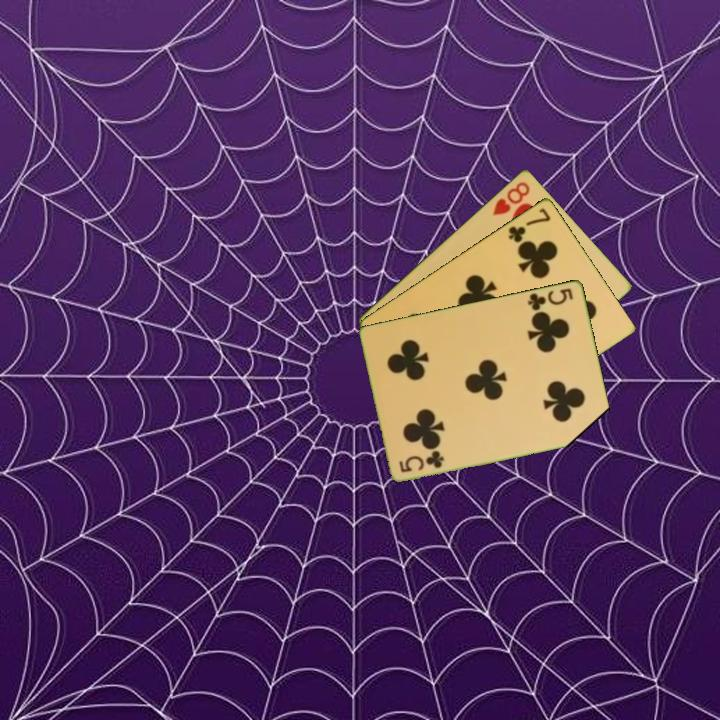5c: (524, 284, 576, 313), (396, 447, 447, 475)
7c: (505, 204, 553, 245)
8h: (489, 178, 533, 218)
